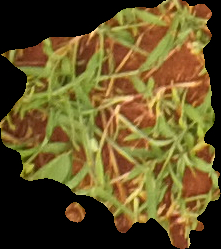grass: (1, 3, 219, 248)
